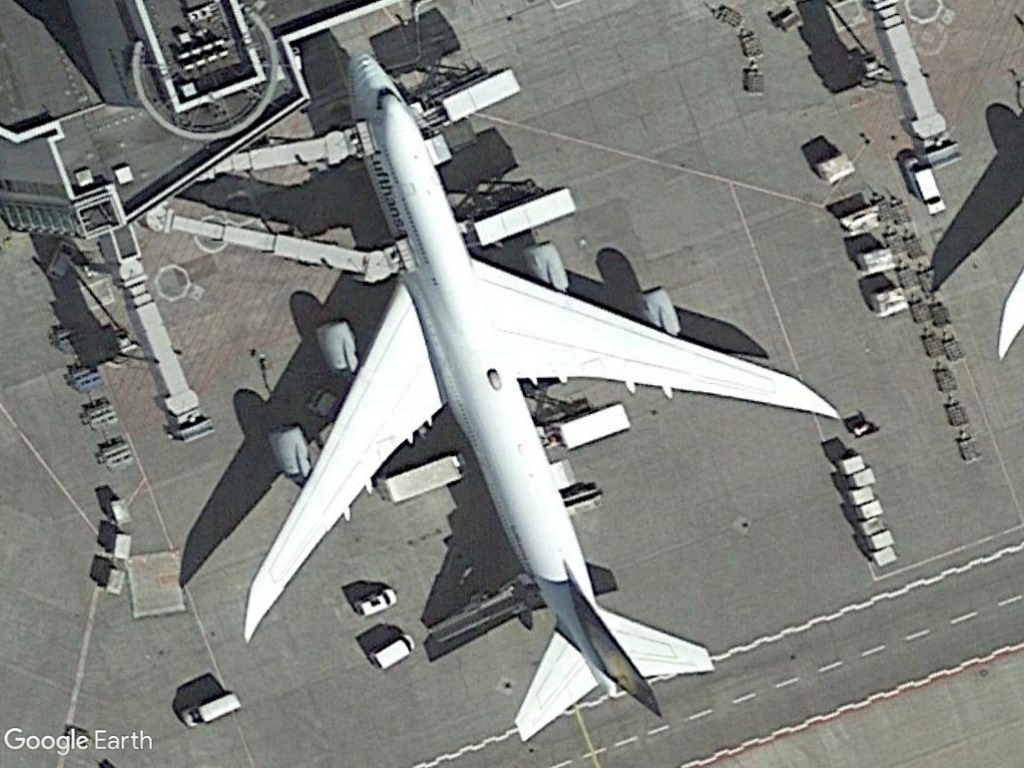airliner: (239, 46, 843, 745)
longvehicle: (465, 185, 577, 249), (375, 451, 467, 507), (437, 66, 525, 124), (552, 400, 631, 452)
van: (176, 691, 243, 732), (367, 632, 418, 674), (907, 165, 948, 217)
